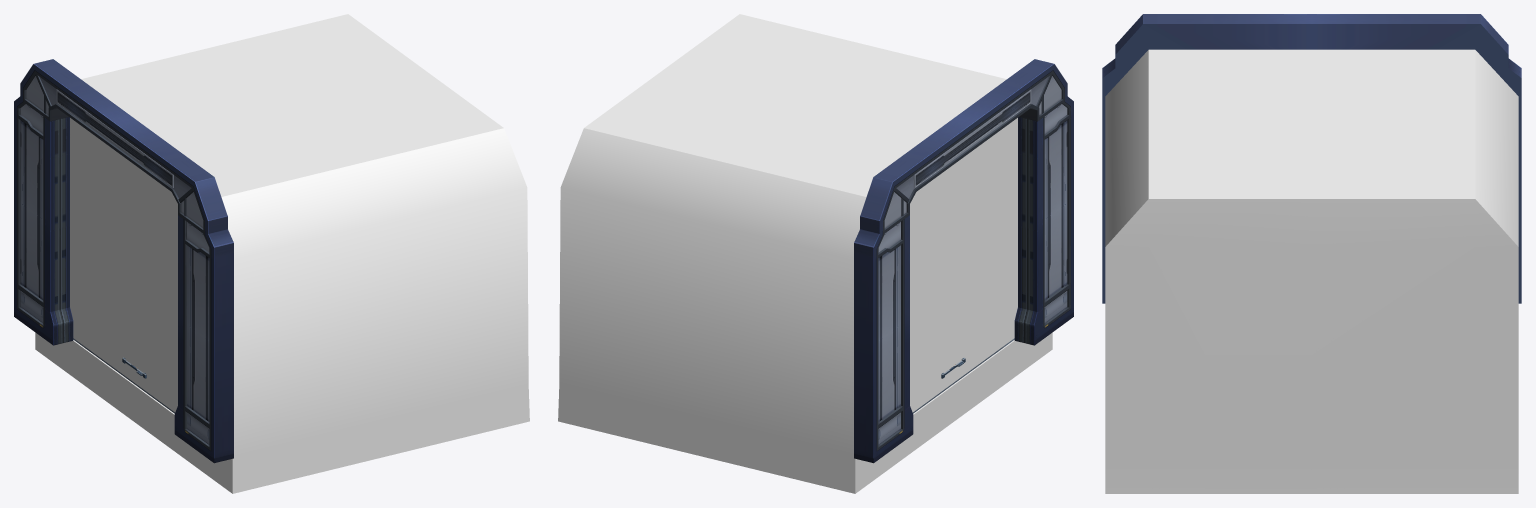
Rendered from my_carrier_01_bridge_01.glb.
3 renders of one model, left to right at view 1: azimuth 30°, elevation 25°; view 2: azimuth 150°, elevation 25°; view 3: azimuth 270°, elevation 25°, orthographic. The views are drawn at different scales.
Parts seen in each view (by area): view 1: my_carrier_01_bridge_01_cover, my_carrier_01_bridge_01, my_carrier_01_bridge_01_hole; view 2: my_carrier_01_bridge_01_cover, my_carrier_01_bridge_01, my_carrier_01_bridge_01_hole; view 3: my_carrier_01_bridge_01_cover, my_carrier_01_bridge_01.
Part boxes in pixels (left/top/right/bottom): my_carrier_01_bridge_01_cover: left=35, top=14, right=529, bottom=493; my_carrier_01_bridge_01: left=14, top=59, right=233, bottom=463; my_carrier_01_bridge_01_hole: left=70, top=118, right=177, bottom=412; my_carrier_01_bridge_01_cover: left=558, top=14, right=1052, bottom=493; my_carrier_01_bridge_01: left=854, top=59, right=1073, bottom=463; my_carrier_01_bridge_01_hole: left=910, top=118, right=1017, bottom=412; my_carrier_01_bridge_01_cover: left=1105, top=49, right=1518, bottom=493; my_carrier_01_bridge_01: left=1102, top=14, right=1521, bottom=303.
Size of the model in its own units: 0.0519 by 0.0475 by 0.0568.
5 materials, 3 textured.
